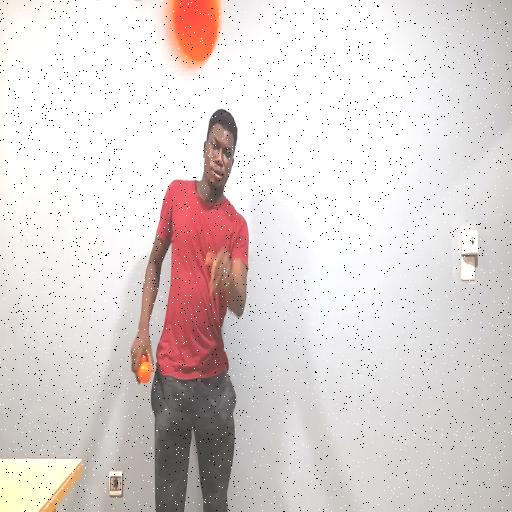plastic-ball: (154, 0, 235, 81)
